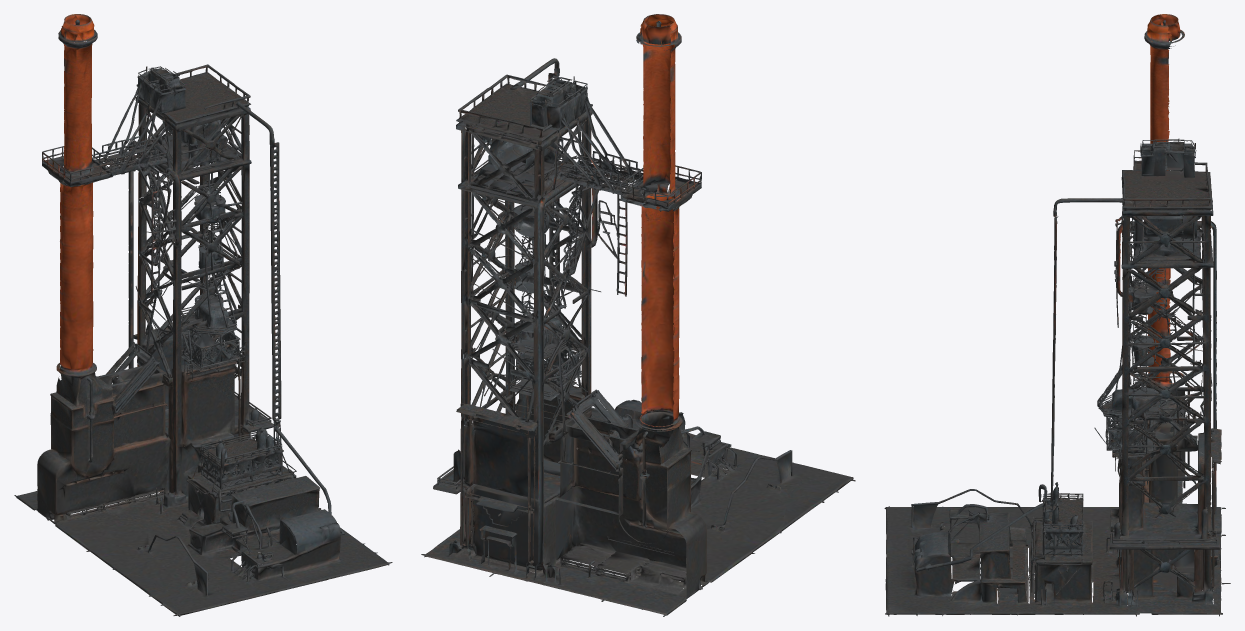
Rendered from foundry_tower.glb.
The picture shows the model from 3 angles, left to right: view 1: azimuth 30°, elevation 25°; view 2: azimuth 150°, elevation 25°; view 3: azimuth 270°, elevation 25°; orthographic projection. The views are drawn at different scales.
Bounding box in the file's own units: 0.8893 × 1.91 × 1.18.
1 material, 1 textured.
